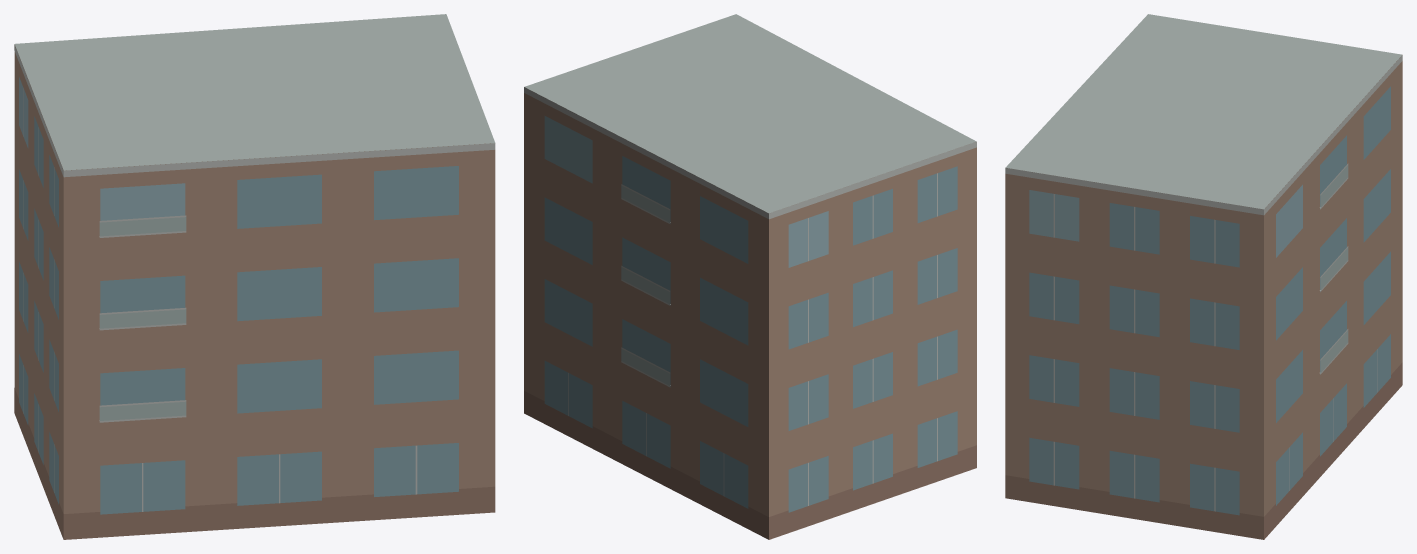
Rendered from survey-upis-32828862.glb.
3 renders of one model, left to right at view 1: azimuth 30°, elevation 25°; view 2: azimuth 150°, elevation 25°; view 3: azimuth 270°, elevation 25°, orthographic. The views are drawn at different scales.
Visible parts, largest first — view 1: survey-upis-32828862.tmp; view 2: survey-upis-32828862.tmp; view 3: survey-upis-32828862.tmp.
Part boxes in pixels (left/top/right/bottom): survey-upis-32828862.tmp: left=14, top=14, right=495, bottom=539; survey-upis-32828862.tmp: left=524, top=14, right=976, bottom=539; survey-upis-32828862.tmp: left=1005, top=14, right=1402, bottom=539.
Size of the model in its own units: 17.13 by 13.5 by 14.71.
